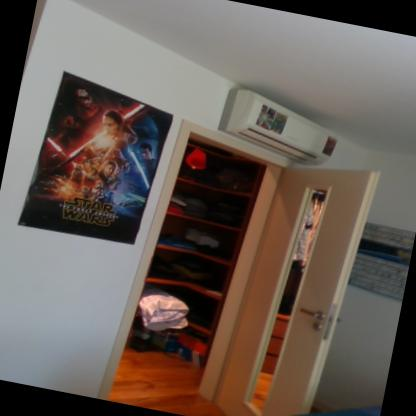open: (109, 103, 395, 415)
